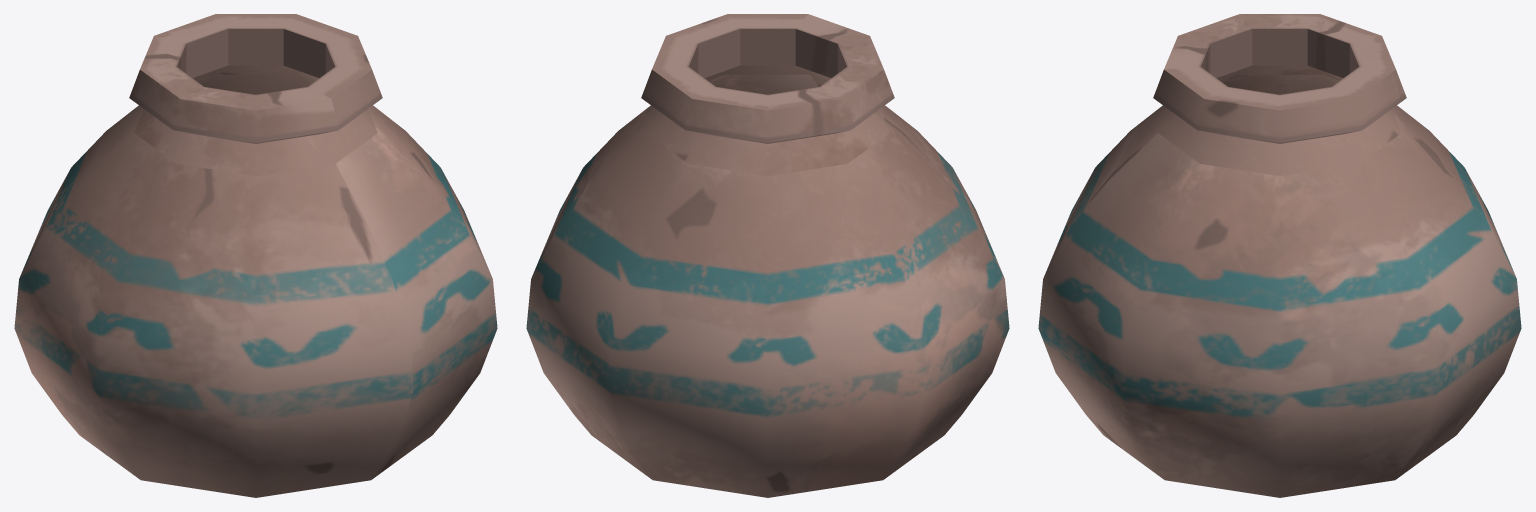
The model's file is Vase_C.FBX.
3 renders of one model, left to right at view 1: azimuth 30°, elevation 25°; view 2: azimuth 150°, elevation 25°; view 3: azimuth 270°, elevation 25°, orthographic.
Visible parts, largest first — view 1: Z3_Vase001; view 2: Z3_Vase001; view 3: Z3_Vase001.
Boxes of the visible parts, box(x1,y1,x2,y2) form: Z3_Vase001: box(14, 14, 497, 497); Z3_Vase001: box(526, 14, 1009, 497); Z3_Vase001: box(1038, 14, 1521, 497).
Size of the model in its own units: 140 by 118 by 142.
